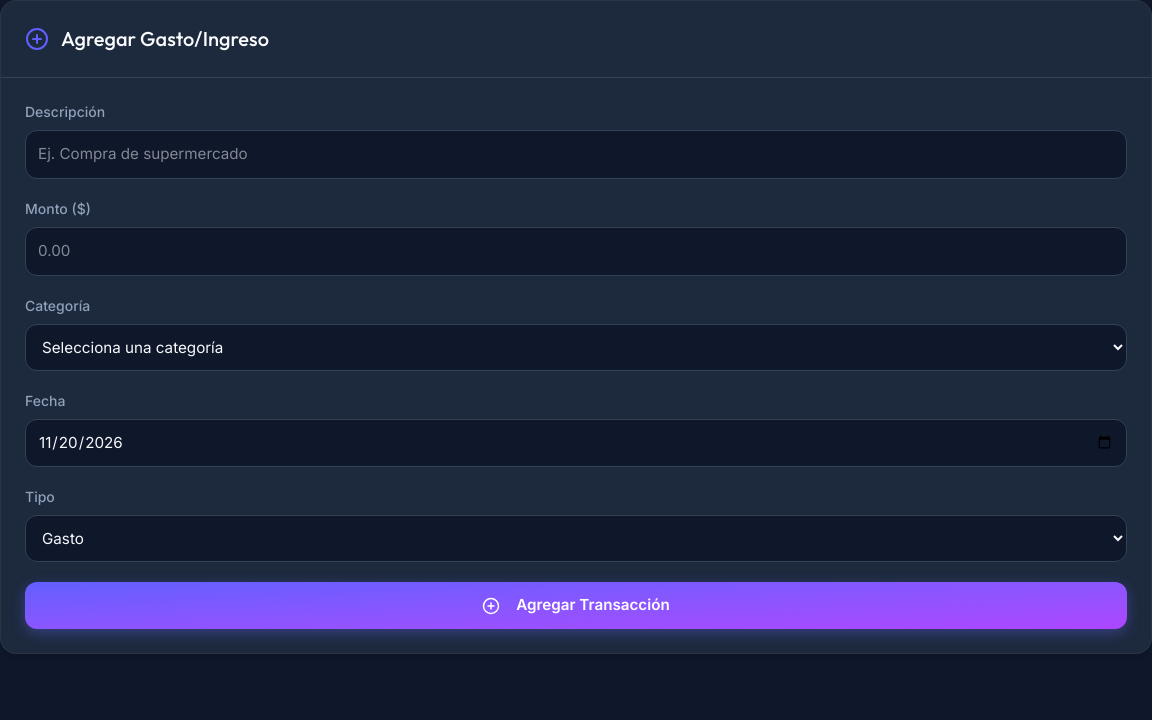
it: ExpenseForm component › should call onAddTransaction with correct values on submit
# Type in fields
Type "Cena restaurante" into the field labelled "Descripción" at (576, 154), box [25,130,1127,179]
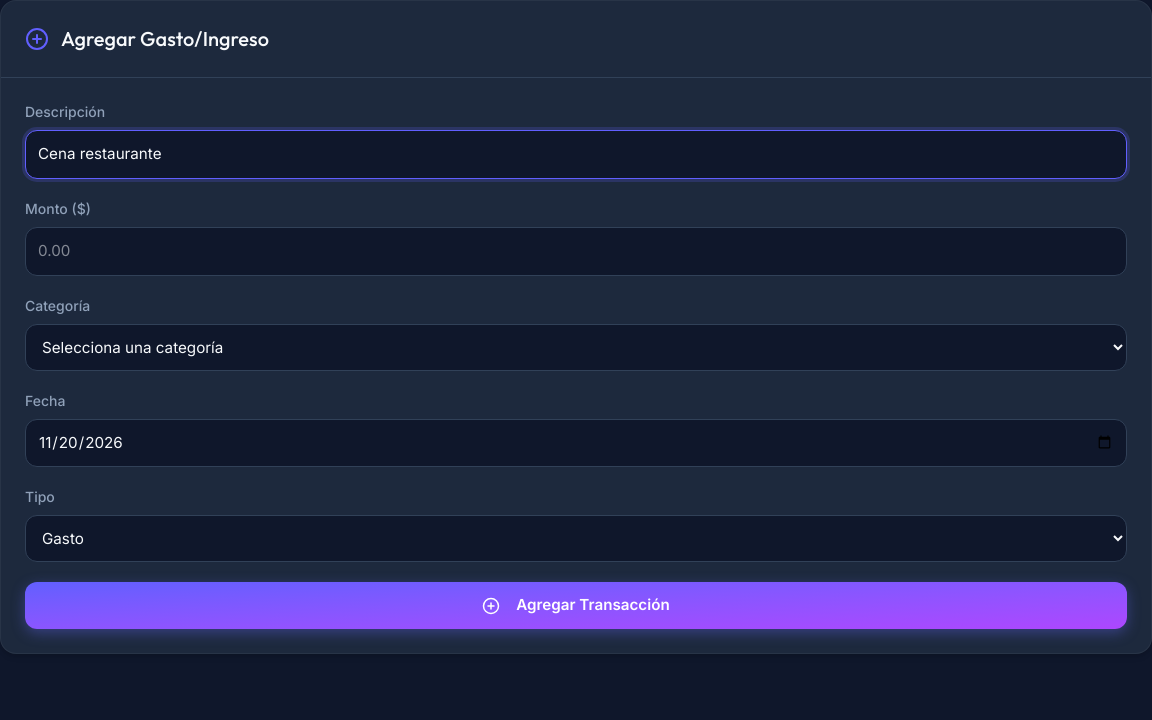
Type "45.5" into the number field labelled "Monto ($)" at (576, 251), box [25,227,1127,276]
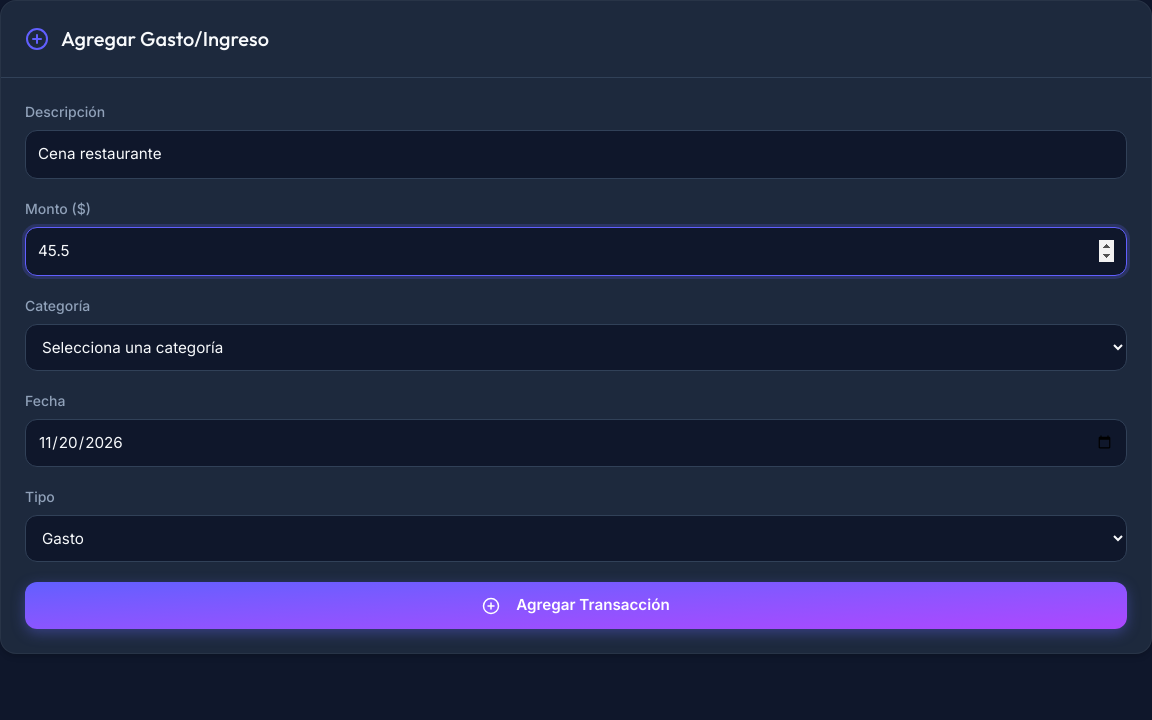
Select "Comida" in the dropdown labelled "Categoría" at (576, 347), box [25,324,1127,371]
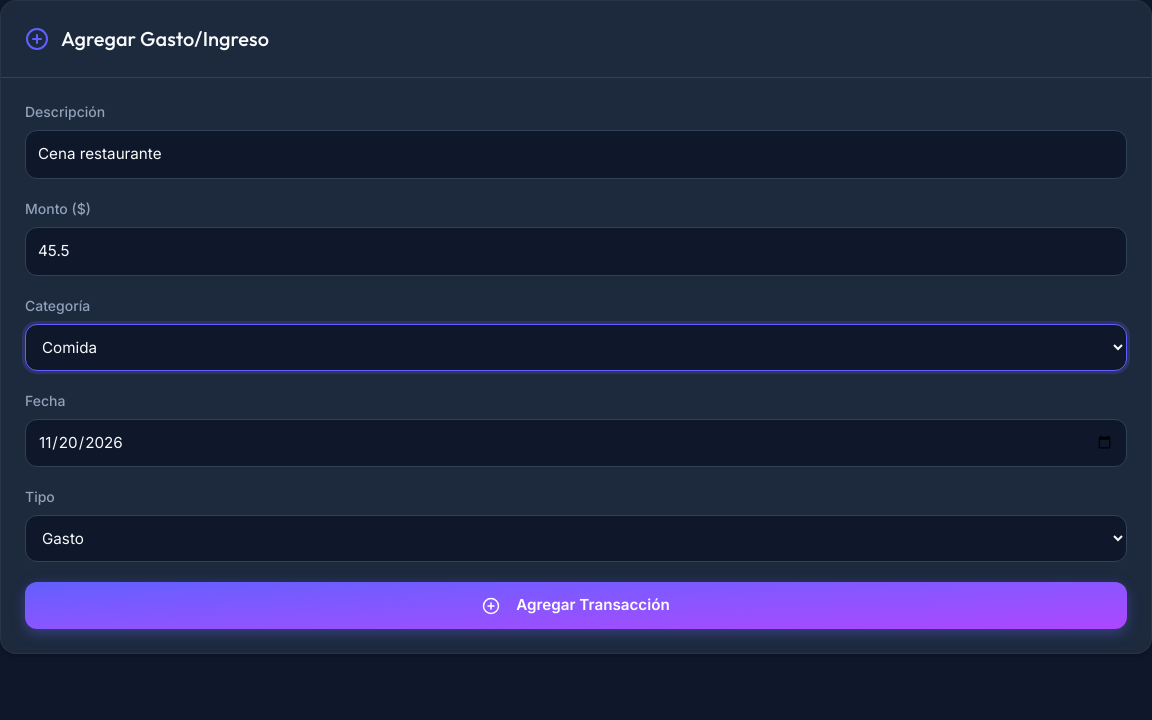
Type "2026-07-15" into the date field labelled "Fecha" at (576, 443), box [25,419,1127,467]
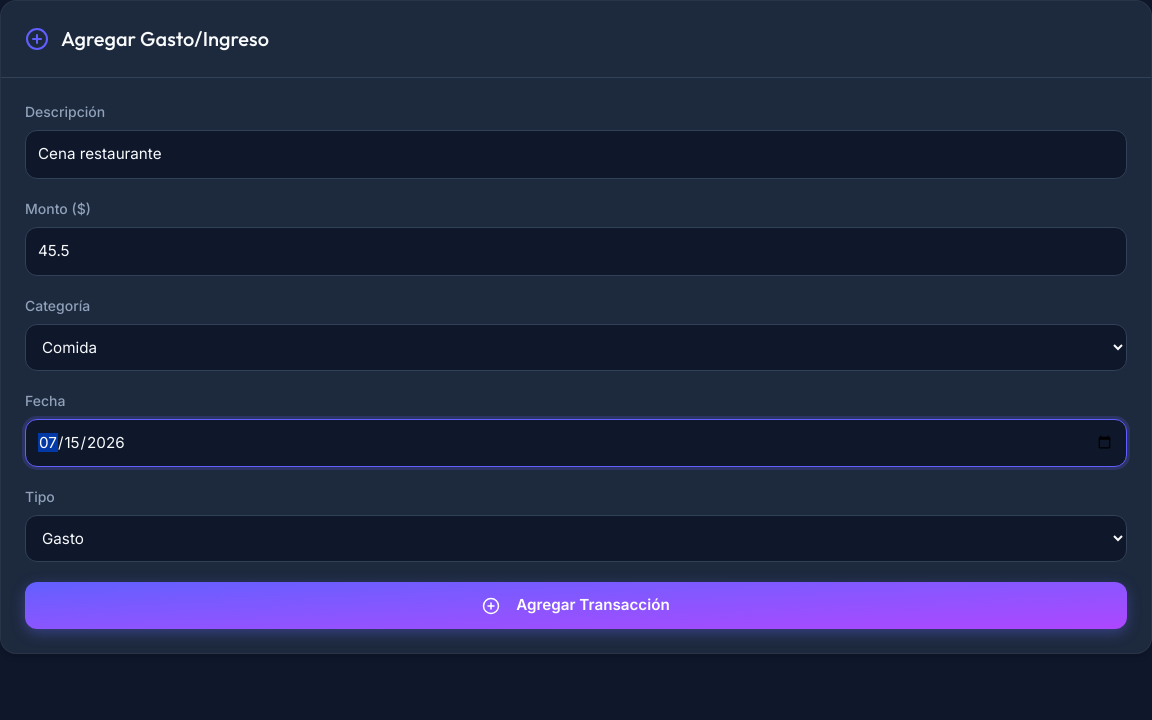
Select "Gasto" in the dropdown labelled "Tipo" at (576, 539), box [25,515,1127,562]
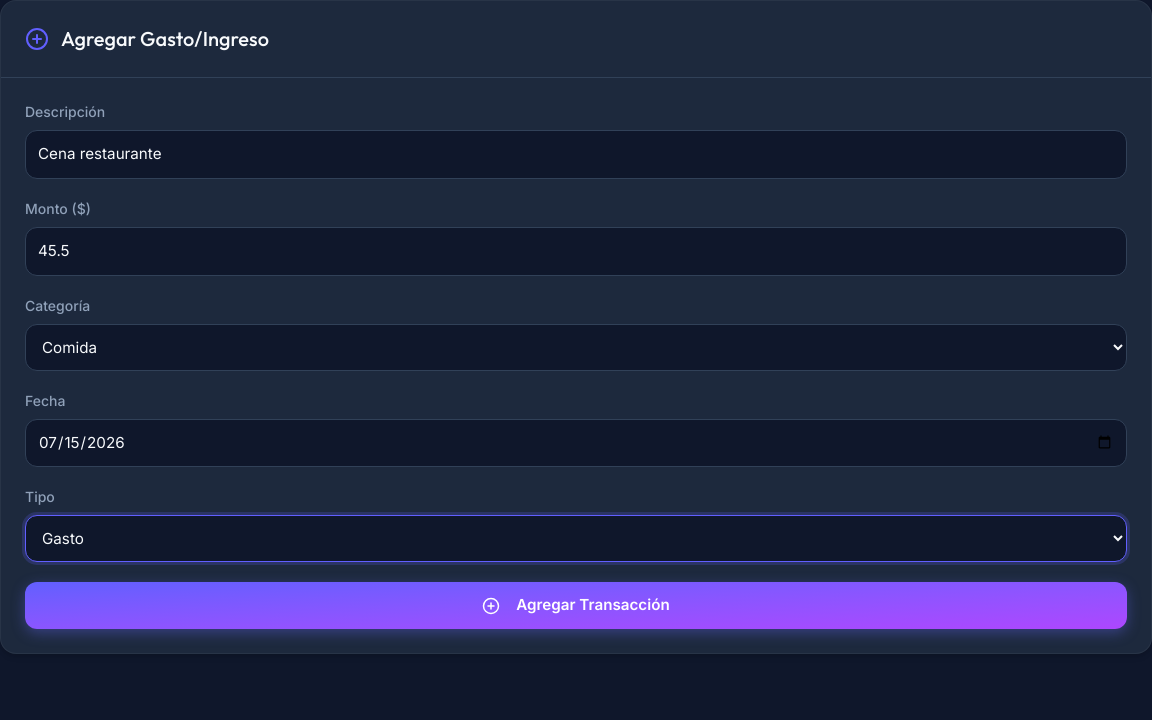
Click the button "Agregar Transacción" at (576, 606), box [25,582,1127,629]
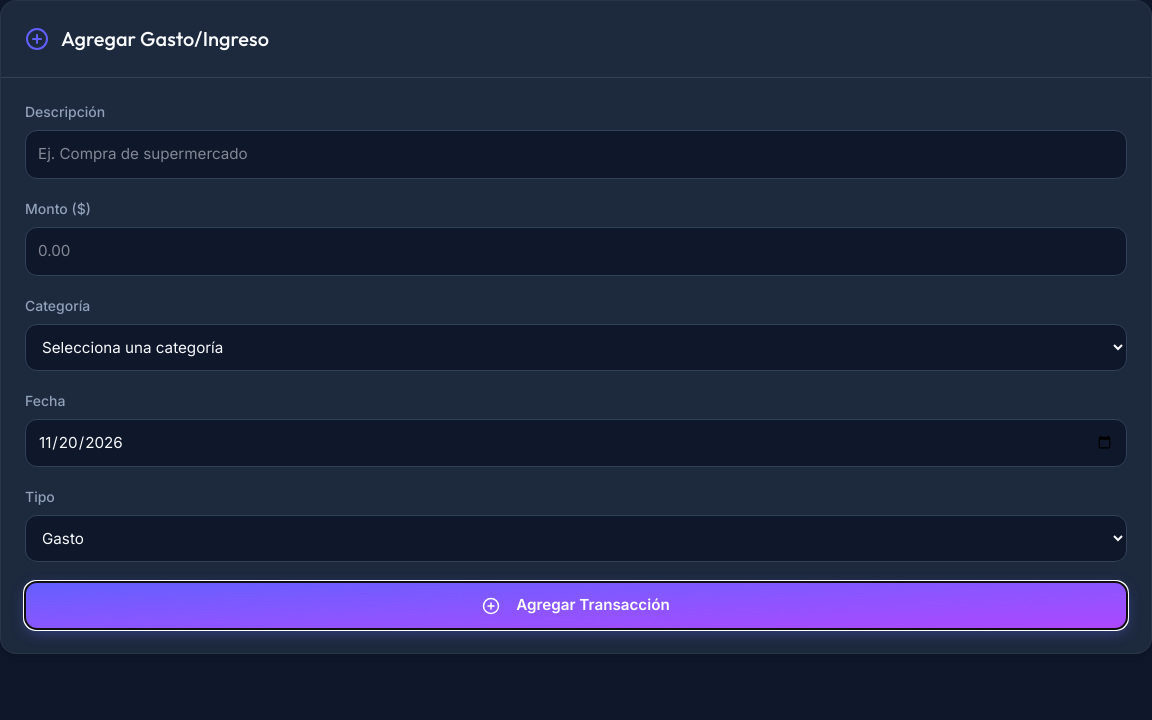
expect the field labelled "Descripción" is empty: met, box [25,130,1127,179]
expect the number field labelled "Monto ($)" is empty: met, box [25,227,1127,276]
